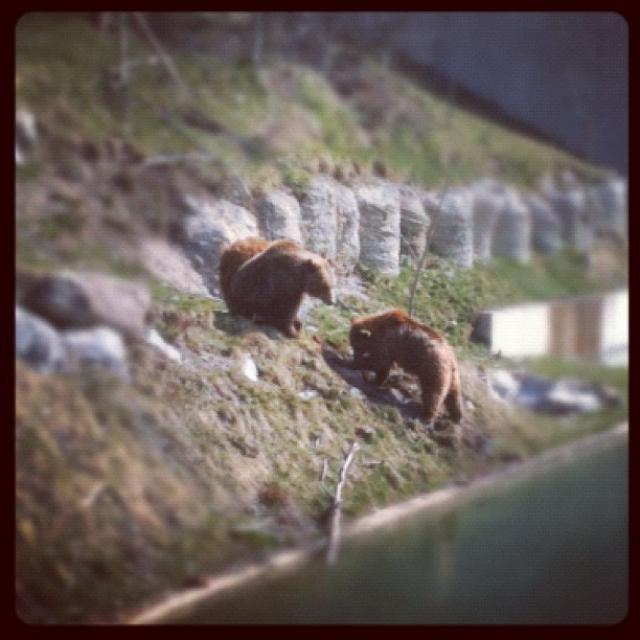Bear: (346, 302, 466, 425), (208, 219, 338, 329)
